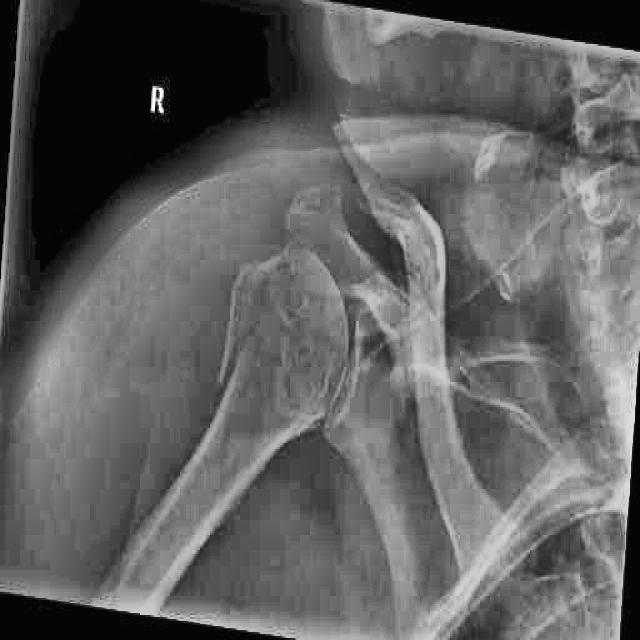shoulder fracture: (202, 283, 276, 410)
